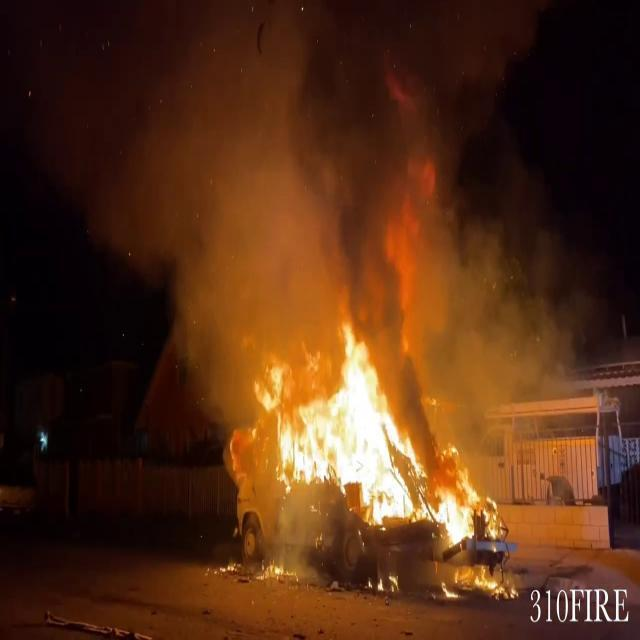Fire: (254, 316, 506, 562)
Smoke: (28, 1, 425, 336)
